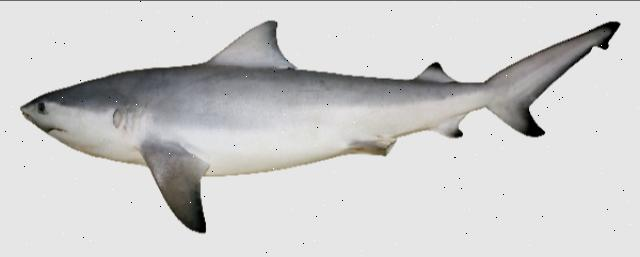Mulut: (36, 119, 76, 147)
Sirip Anal: (414, 57, 470, 143)
Sirip Dada: (138, 134, 215, 236)
Sirip Ekor: (488, 16, 622, 140)
Sirip Perut: (346, 128, 402, 164)
Sirip Punggung: (207, 19, 299, 77)
